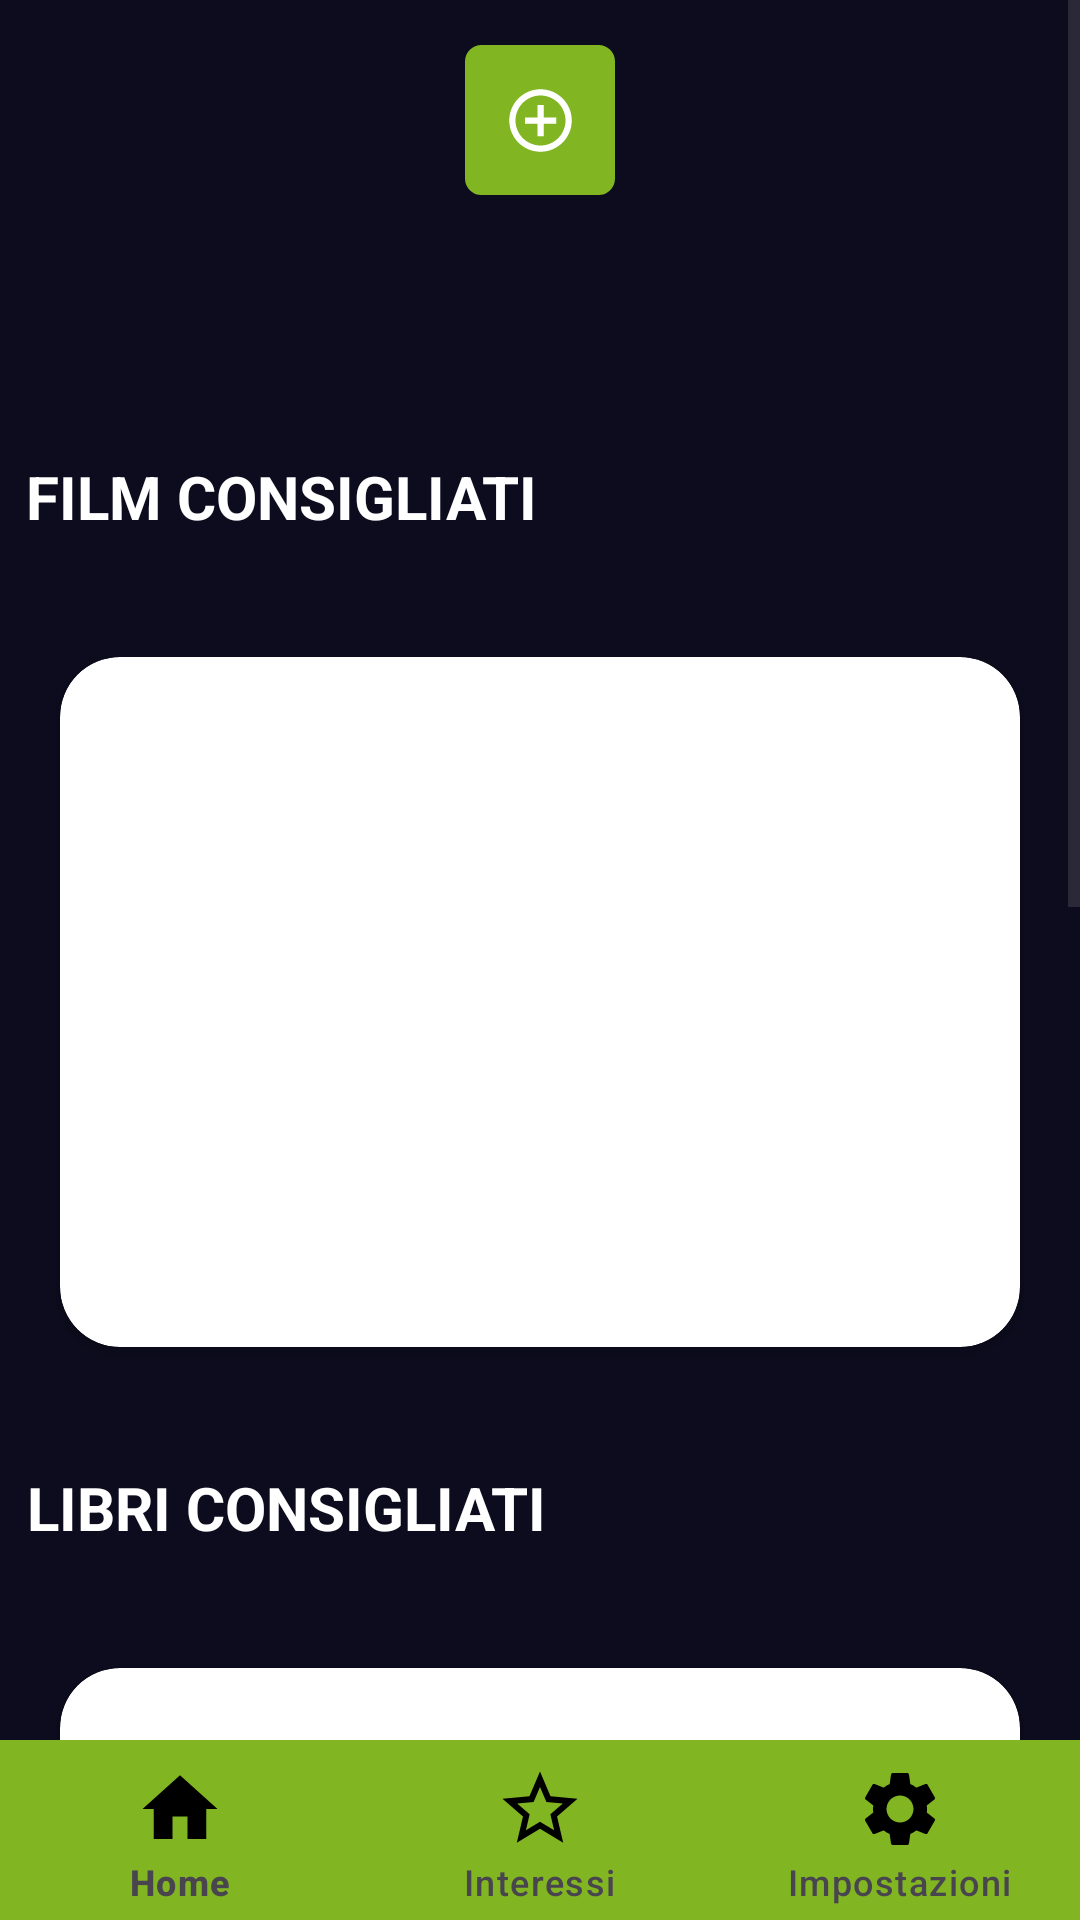

Screen size 1080 x 1920. Icon name, then its box in pixels as (x1, y1, x2, y2):
aggiunta: (465, 45, 615, 195)
